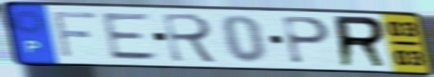0: (219, 13, 271, 65)
E: (99, 12, 163, 62)
F: (50, 9, 100, 60)
P: (279, 14, 332, 66)
R: (160, 11, 222, 65), (332, 14, 391, 70)
